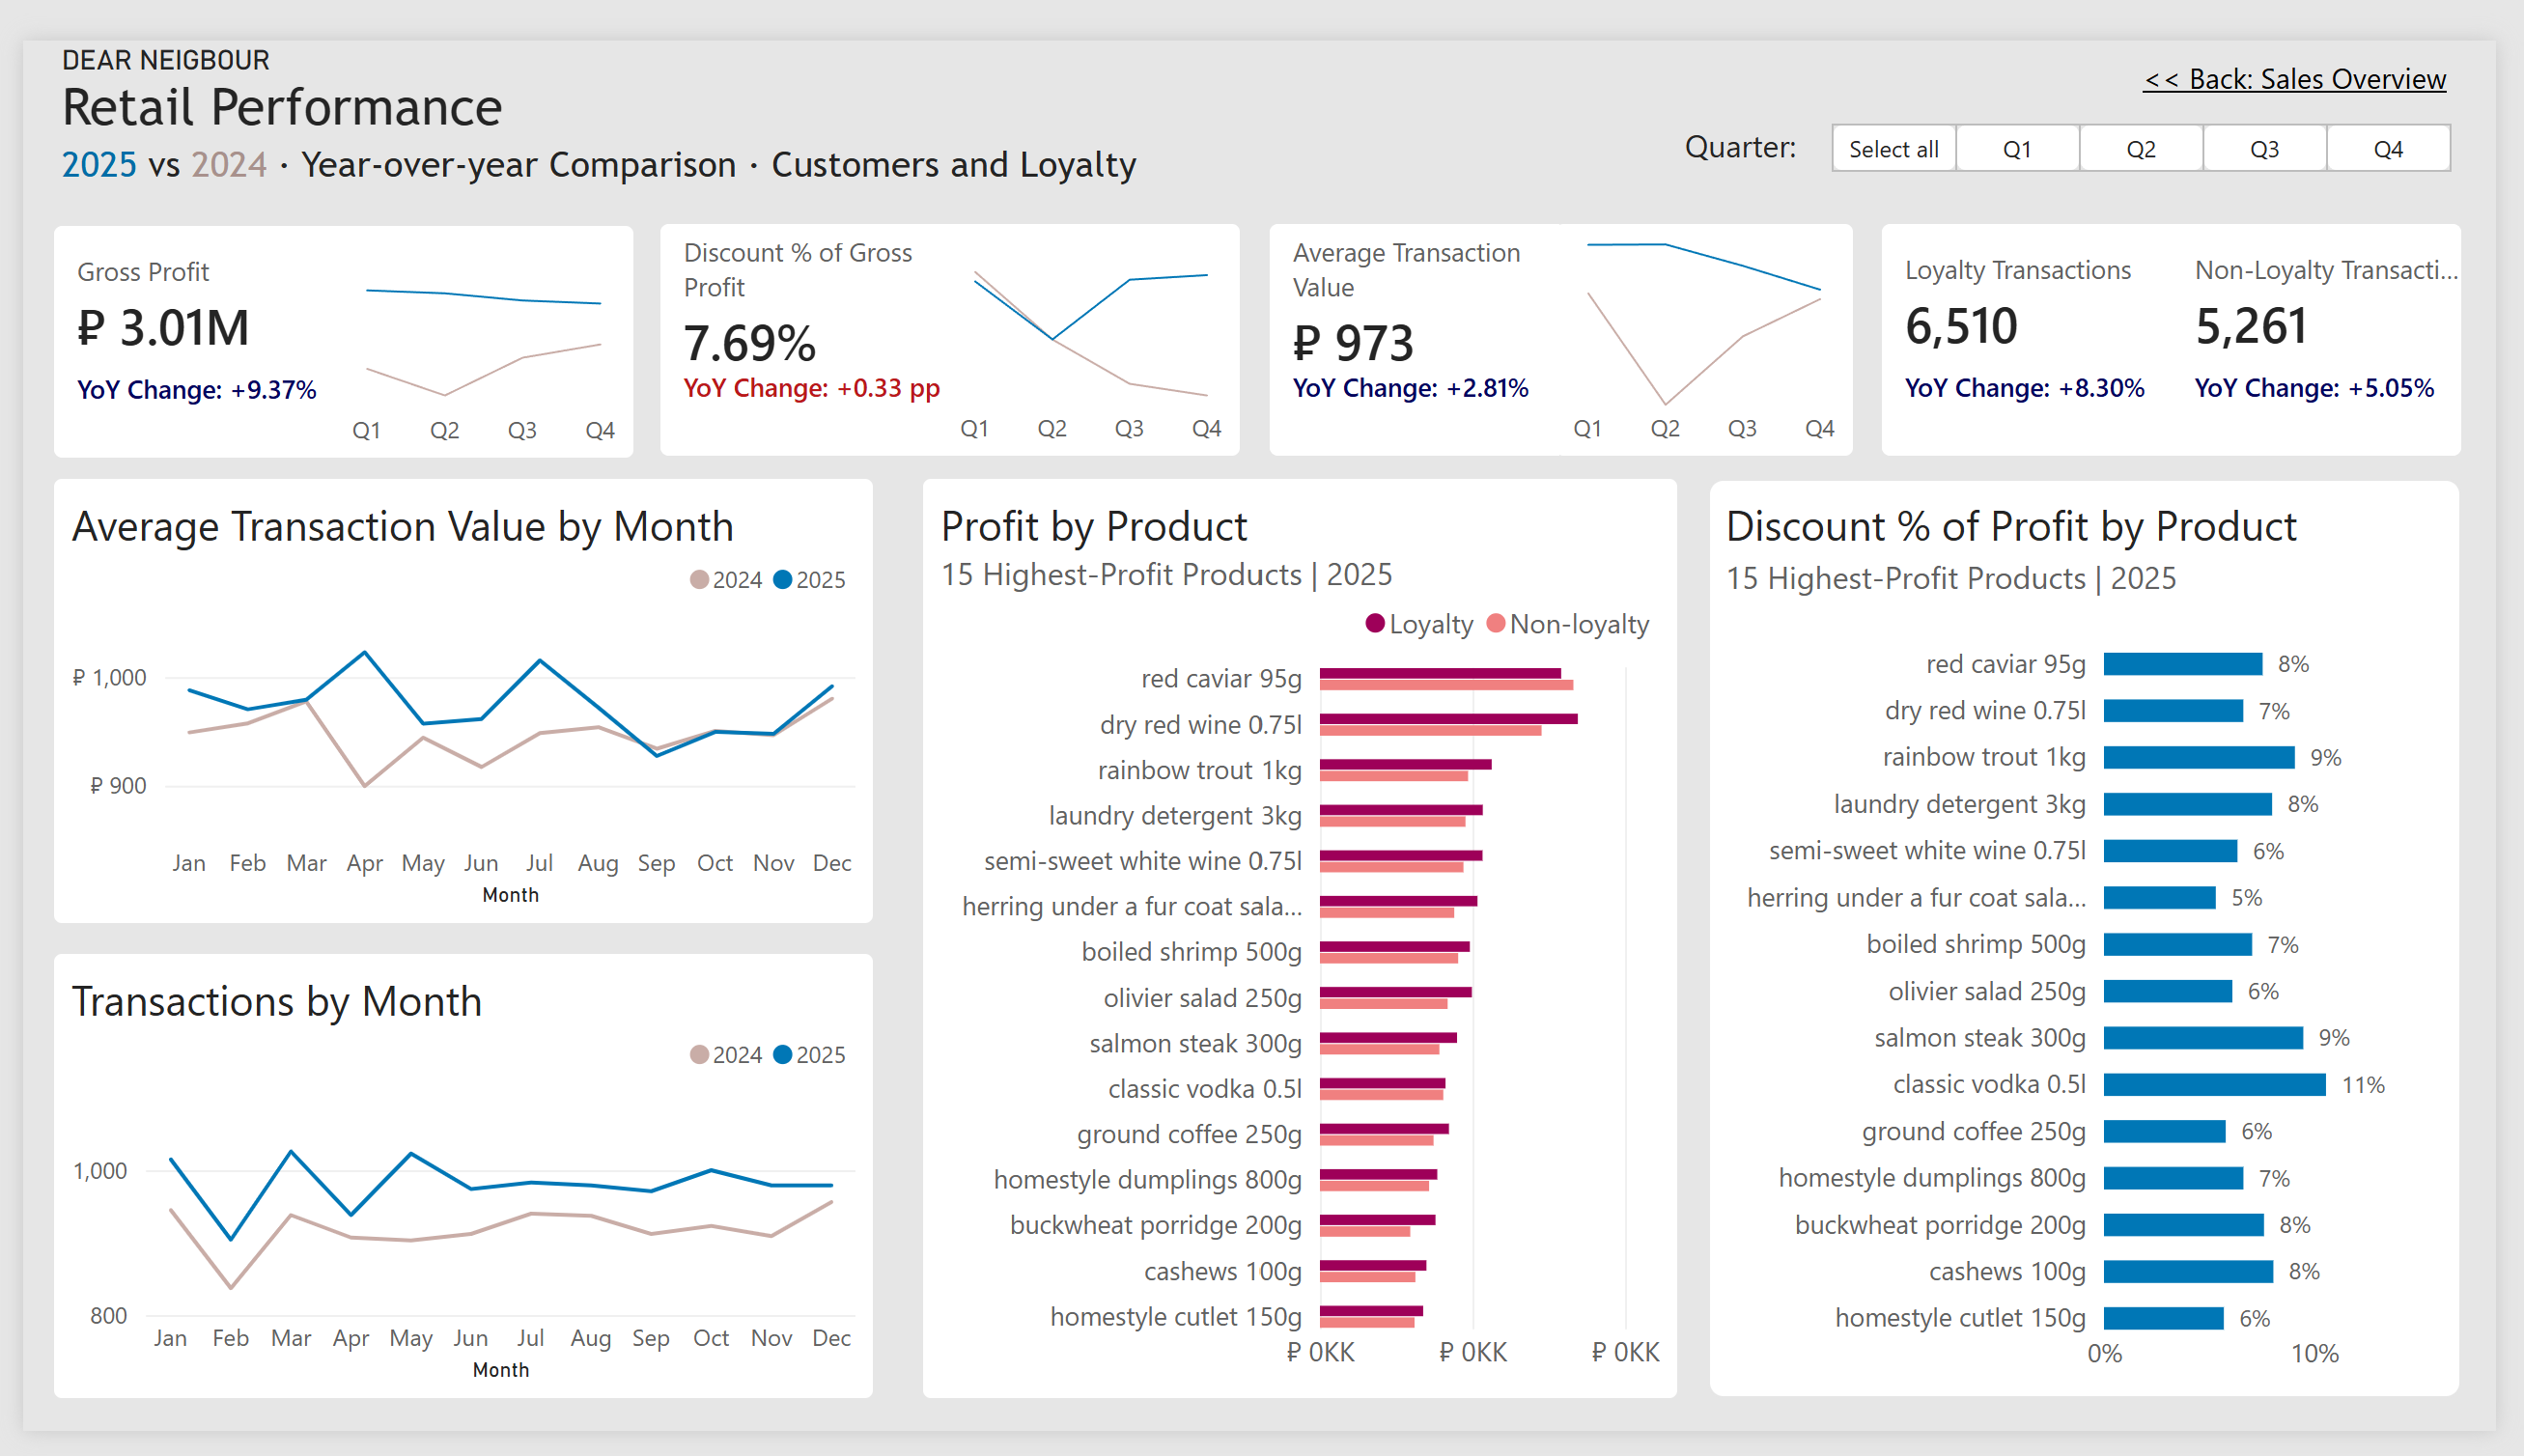

Layout of this report page (visuals, bound fields, positions):
{"tool":"powerbi","page":{"name":"Customers & Loyalty","canvas":[1280,720],"ordinal":1},"visuals":[{"type":"textbox","box":[0,0,290,60],"z":0},{"type":"advancedSlicerVisual","fields":{"Values":["calendar.Quarter"]},"box":[936,43,325,25],"z":1000},{"type":"textbox","box":[0,53.5,644.9,33.1],"z":2000},{"type":"cardVisual","fields":{"Data":["fact_sales.Discount % of Gross Profit"]},"box":[330,95,150,120],"z":3000},{"type":"cardVisual","fields":{"Data":["fact_sales.Average Check"]},"box":[645,95,150,120],"z":4000},{"type":"cardVisual","fields":{"Data":["fact_sales.Loyalty Transactions"]},"box":[962.1,95,150,120],"z":5000},{"type":"lineChart","title":"Gross Margin","fields":{"Category":["calendar.Quarter"],"Series":["calendar.Year"],"Y":["fact_sales.Average Check"]},"box":[793.3,95,154.1,120],"z":6000},{"type":"lineChart","title":"Gross Margin","fields":{"Category":["calendar.Quarter"],"Series":["calendar.Year"],"Y":["fact_sales.Gross Profit"]},"box":[161.4,95.9,154.5,120],"z":7000},{"type":"lineChart","title":"Gross Margin","fields":{"Category":["calendar.Quarter"],"Series":["calendar.Year"],"Y":["fact_sales.Discount % of Gross Profit"]},"box":[476,95,154.1,120],"z":8000},{"type":"cardVisual","fields":{"Data":["fact_sales.Non-Loyalty Transactions"]},"box":[1112.1,95,150,120],"z":9000},{"type":"clusteredBarChart","title":"Gross Profit by Subcategory","fields":{"Category":["dim_products.subcategory"],"Series":["fact_sales.Customer Type"],"Y":["fact_sales.Gross Profit"]},"box":[462,226.7,390,476.7],"z":10000},{"type":"textbox","box":[860,43,75,25],"z":11000},{"type":"cardVisual","fields":{"Data":["fact_sales.Gross Profit"]},"box":[15.6,95.6,150,120],"z":12000},{"type":"lineChart","title":"Transactions by Month","fields":{"Category":["calendar.Month"],"Series":["calendar.Year"],"Y":["fact_sales.Transactions"]},"box":[15.6,473.3,424.4,230],"z":13000},{"type":"lineChart","title":"Average Transaction Value  by Month","fields":{"Category":["calendar.Month"],"Series":["calendar.Year"],"Y":["fact_sales.Average Check"]},"box":[15.6,226.7,424.4,230],"z":14000},{"type":"clusteredBarChart","title":"Discount % of GP by Subcategory","fields":{"Category":["dim_products.subcategory"],"Y":["fact_sales.Discount % of Gross Profit"]},"box":[872.2,226.7,390,476.7],"z":15000},{"type":"actionButton","title":"Next: Customers & Loyalty","box":[1089.4,0,191.6,37],"z":16000}]}

Visuals, with their boxes in screenshot pixels (x1, y1, x2, y2), scaled from the page's 1280x720 canvas onto the 2524x1456 screenshot:
textbox: left=0, top=0, right=572, bottom=122
advancedSlicerVisual - calendar.Quarter: left=1845, top=87, right=2486, bottom=137
textbox: left=0, top=108, right=1272, bottom=175
cardVisual - fact_sales.Discount % of Gross Profit: left=651, top=192, right=946, bottom=434
cardVisual - fact_sales.Average Check: left=1272, top=192, right=1568, bottom=434
cardVisual - fact_sales.Loyalty Transactions: left=1897, top=192, right=2193, bottom=434
"Gross Margin" lineChart: left=1564, top=192, right=1868, bottom=434
"Gross Margin" lineChart: left=319, top=194, right=623, bottom=436
"Gross Margin" lineChart: left=939, top=192, right=1243, bottom=434
cardVisual - fact_sales.Non-Loyalty Transactions: left=2193, top=192, right=2488, bottom=434
"Gross Profit by Subcategory" clusteredBarChart: left=911, top=459, right=1680, bottom=1422
textbox: left=1696, top=87, right=1843, bottom=137
cardVisual - fact_sales.Gross Profit: left=31, top=193, right=326, bottom=436
"Transactions by Month" lineChart: left=31, top=957, right=868, bottom=1422
"Average Transaction Value  by Month" lineChart: left=31, top=459, right=868, bottom=924
"Discount % of GP by Subcategory" clusteredBarChart: left=1720, top=459, right=2489, bottom=1422
"Next: Customers & Loyalty" actionButton: left=2148, top=0, right=2523, bottom=74
